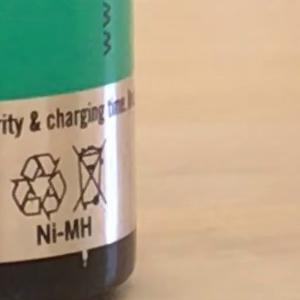NI-MH: (27, 206, 101, 255)
